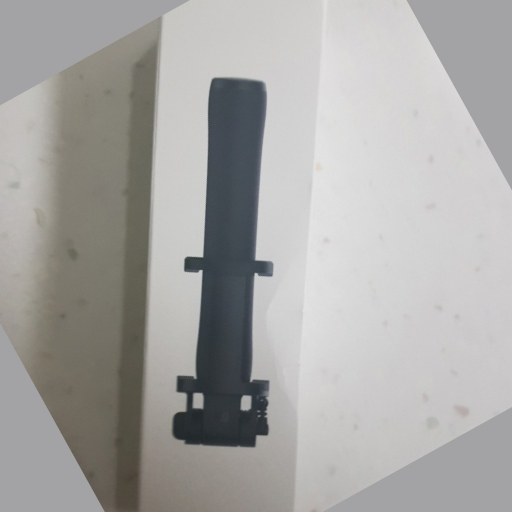Paper_0: (136, 1, 330, 512)
